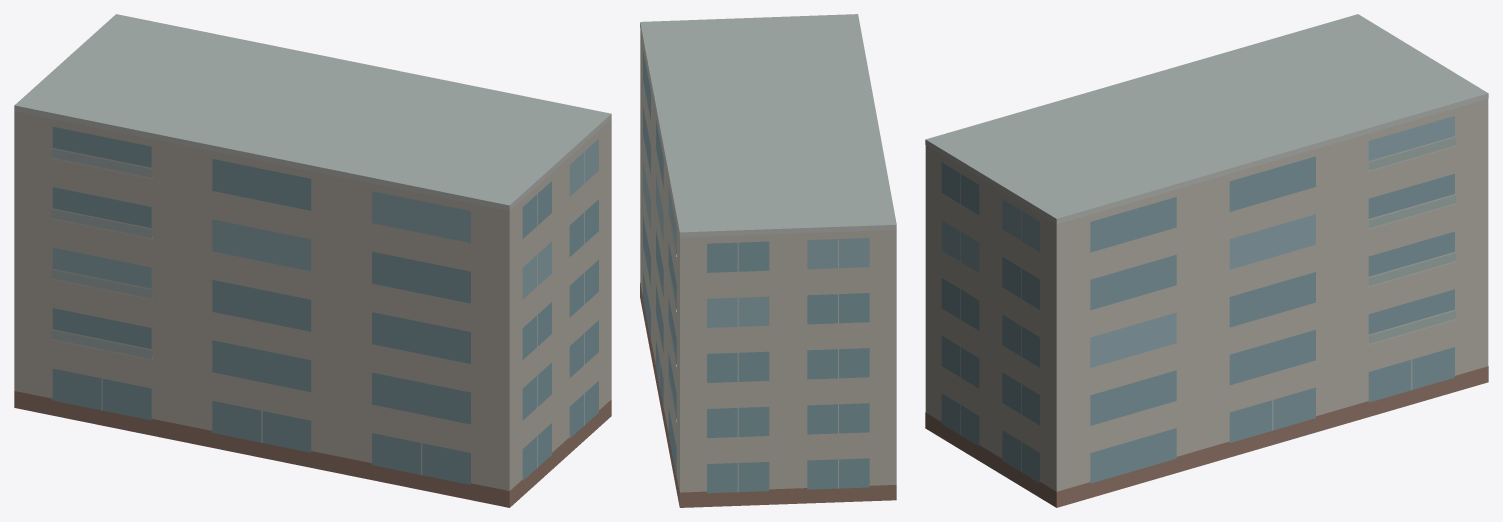
Rendered from survey-upis-32671098.glb.
3 renders of one model, left to right at view 1: azimuth 30°, elevation 25°; view 2: azimuth 150°, elevation 25°; view 3: azimuth 270°, elevation 25°, orthographic. The views are drawn at different scales.
Visible parts, largest first — view 1: survey-upis-32671098.tmp; view 2: survey-upis-32671098.tmp; view 3: survey-upis-32671098.tmp.
Part boxes in pixels (<box>): survey-upis-32671098.tmp: <box>14,14,611,507</box>; survey-upis-32671098.tmp: <box>640,14,896,507</box>; survey-upis-32671098.tmp: <box>925,14,1488,507</box>.
Bounding box in the file's own units: 19.78 × 13 × 22.96.
